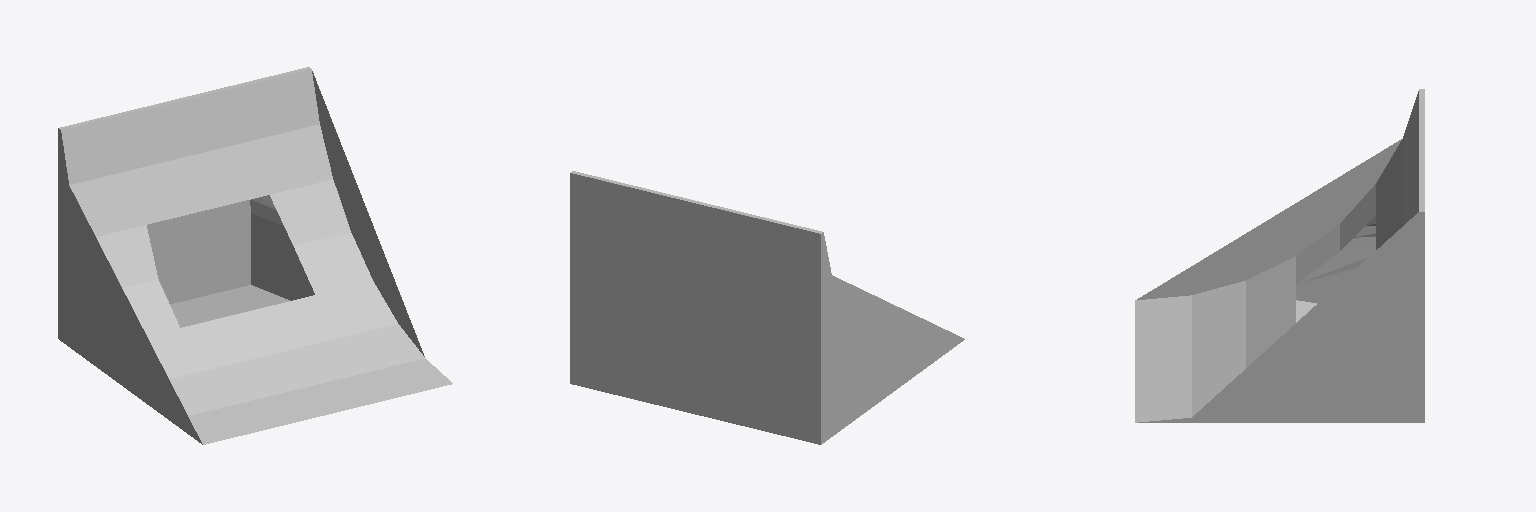
Rendered from quarter-pipe-with-porthole.obj.
3 renders of one model, left to right at view 1: azimuth 30°, elevation 25°; view 2: azimuth 150°, elevation 25°; view 3: azimuth 270°, elevation 25°, orthographic.
Visible parts, largest first — view 1: quarter-pipe; view 2: quarter-pipe; view 3: quarter-pipe.
Boxes of the visible parts, x1,y1,x2,y2 form: quarter-pipe: [58, 67, 452, 444]; quarter-pipe: [570, 171, 964, 444]; quarter-pipe: [1135, 89, 1424, 422].
Size of the model in its own units: 1 by 0.8049 by 1.